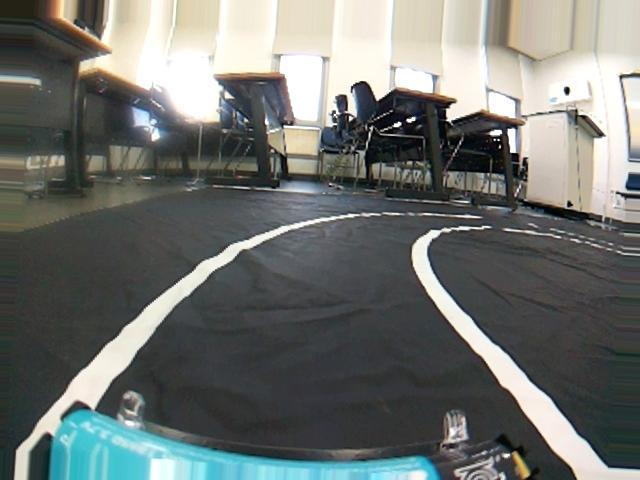straight: (2, 180, 640, 480)
